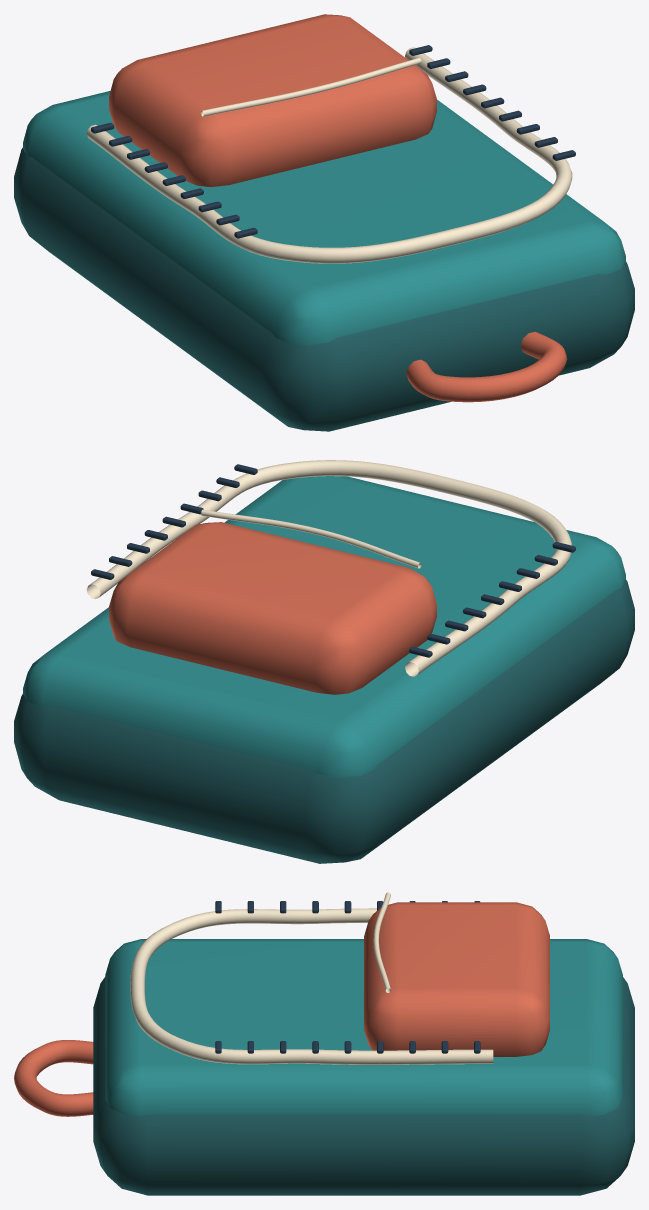
Rendered from BackpackTrialFront.fbx.
3 renders of one model, top to bottom at view 1: azimuth 30°, elevation 25°; view 2: azimuth 150°, elevation 25°; view 3: azimuth 270°, elevation 25°, orthographic. The views are drawn at different scales.
Parts seen in each view (by area): view 1: SoftBagBody, PaddedFabric, FrontPocket, ZipperTrack, CarryHandle, PocketStitch; view 2: SoftBagBody, PaddedFabric, FrontPocket, ZipperTrack, PocketStitch; view 3: SoftBagBody, PaddedFabric, FrontPocket, ZipperTrack, CarryHandle, PocketStitch.
Part boxes in pixels (x1,y1,x2,y2): SoftBagBody: [23, 91, 625, 345]; PaddedFabric: [14, 147, 634, 431]; FrontPocket: [109, 14, 436, 186]; ZipperTrack: [86, 47, 572, 263]; CarryHandle: [406, 331, 567, 402]; PocketStitch: [201, 58, 421, 116]; SoftBagBody: [23, 476, 625, 777]; PaddedFabric: [14, 580, 634, 863]; FrontPocket: [109, 522, 436, 694]; ZipperTrack: [86, 460, 572, 676]; PocketStitch: [201, 509, 421, 568]; SoftBagBody: [105, 939, 622, 1115]; PaddedFabric: [93, 977, 634, 1195]; FrontPocket: [364, 902, 549, 1056]; ZipperTrack: [130, 908, 493, 1064]; CarryHandle: [14, 1040, 93, 1116]; PocketStitch: [373, 892, 390, 992].
Size of the model in its own units: 47 by 26.63 by 76.8.
